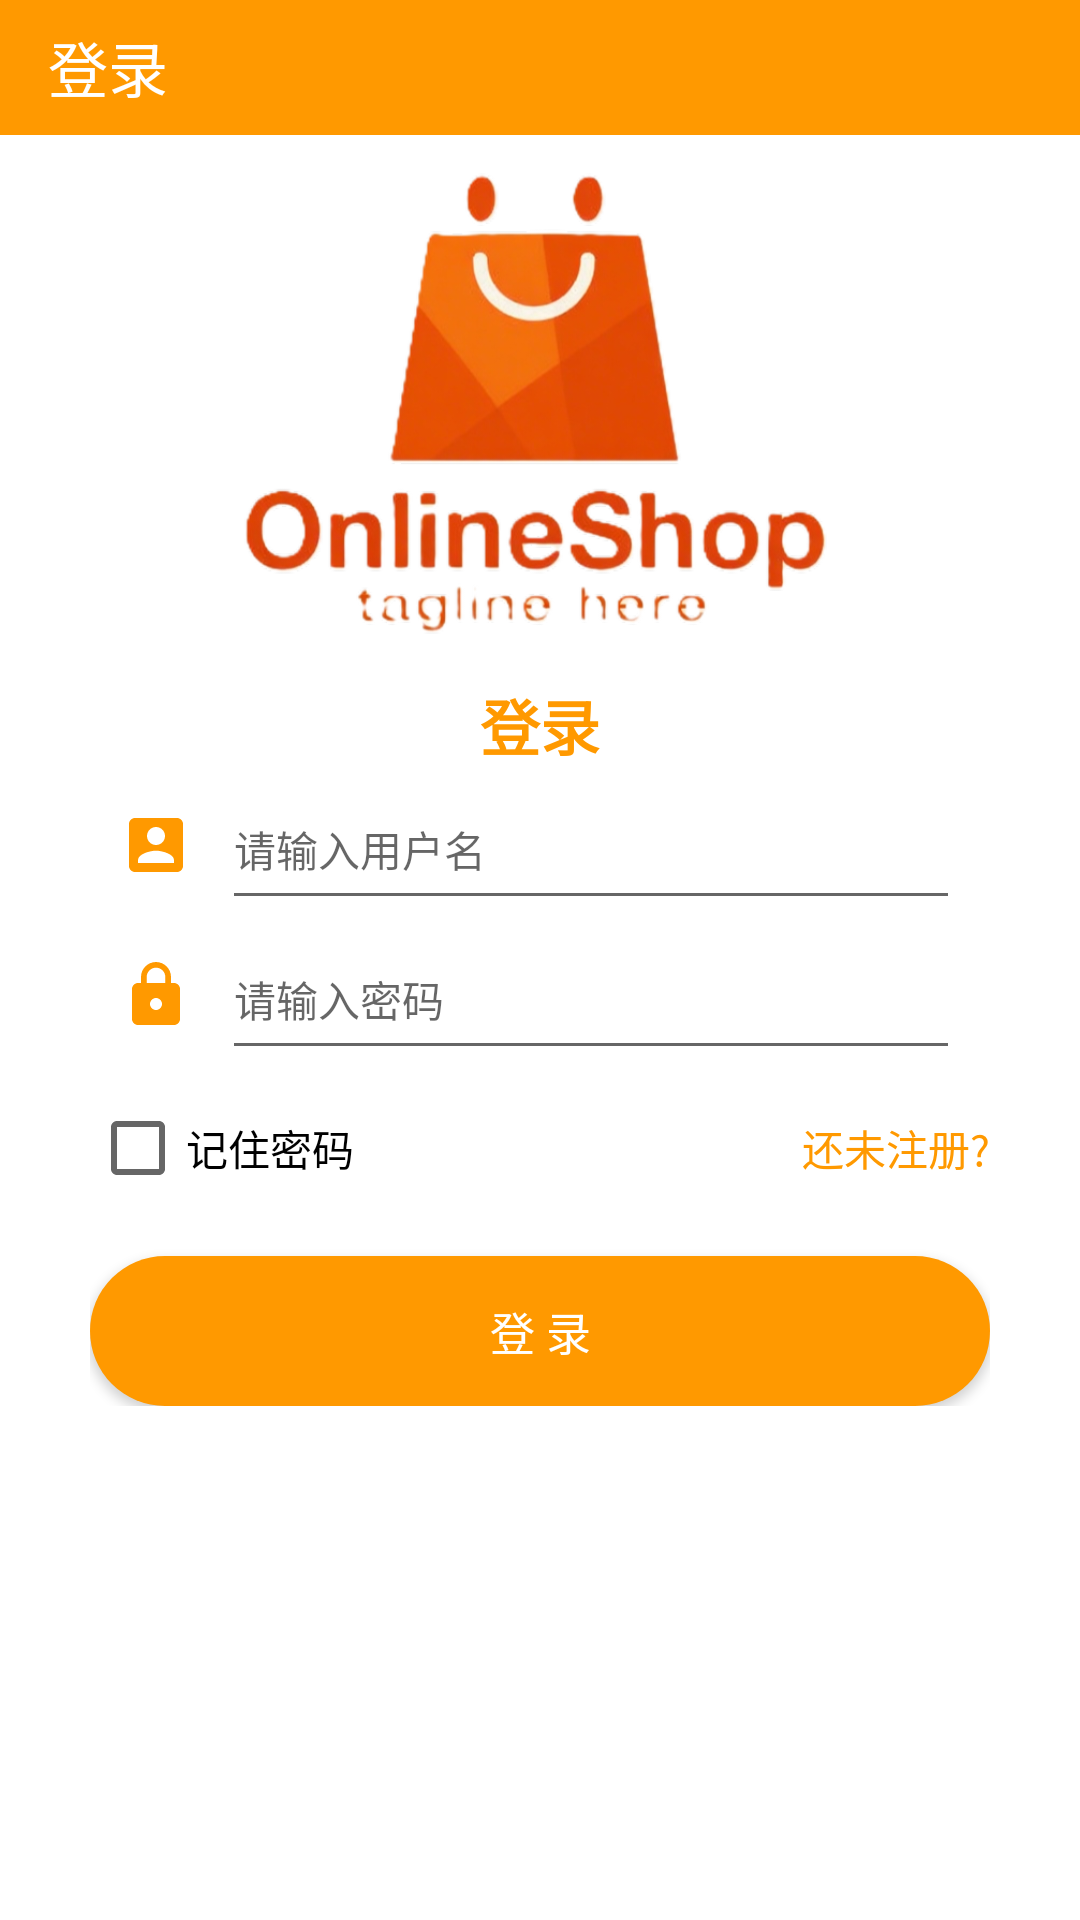

Icon bounding boxes for this 1080w x 1920h phone screenshot, format (x1, y1, x2, y2):
login: (129, 818, 183, 872)
login password: (132, 962, 180, 1025)
